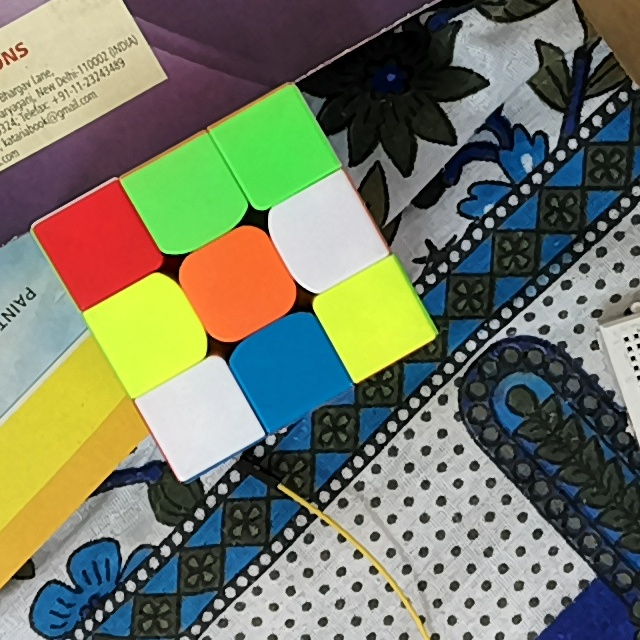tile: (148, 163, 221, 231), (292, 198, 359, 268), (201, 252, 273, 317), (61, 212, 131, 278), (114, 298, 184, 364), (241, 116, 312, 181), (167, 383, 235, 449), (341, 284, 406, 349), (258, 333, 321, 399)
